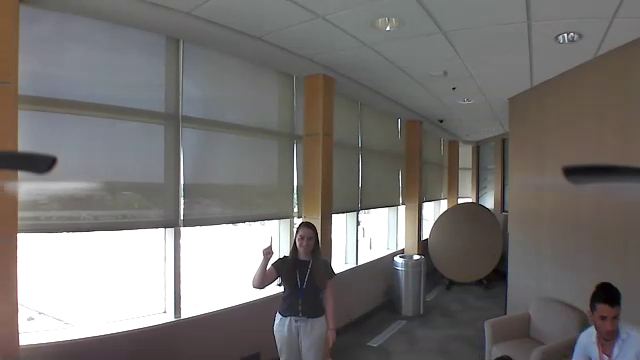up: (262, 231, 275, 262)
